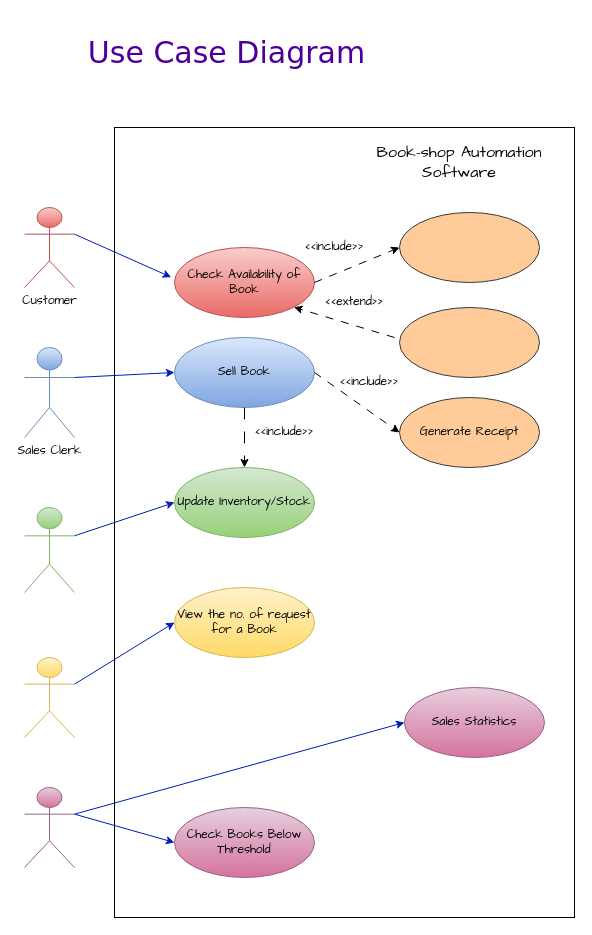
The diagram is 592 pixels wide and 935 high, and some of its shapes have lost their labels. Here are the shapes that lost their labels. From the top down, the centre of each, then its label:
the point at 469,247: Display Details
the point at 469,342: Fill Procurement Form
the point at 49,549: Employee
the point at 49,697: Manager
the point at 49,827: Owner
